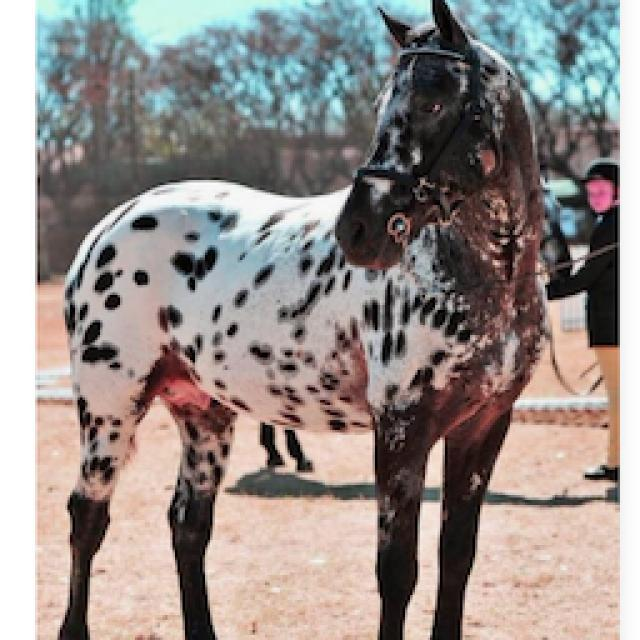Horse: (48, 0, 558, 638)
